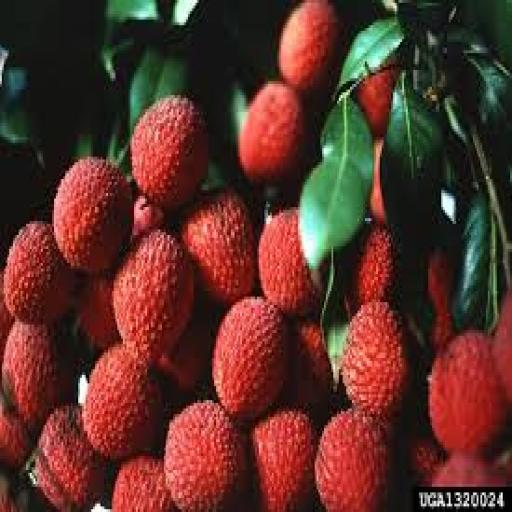lychee: (114, 230, 193, 360), (429, 331, 506, 453), (53, 157, 132, 274), (213, 297, 288, 419), (164, 401, 247, 511), (82, 345, 161, 458), (131, 96, 208, 209), (181, 191, 256, 304), (2, 322, 74, 430), (341, 303, 409, 416), (315, 409, 390, 511), (36, 406, 106, 511), (4, 222, 74, 324), (239, 82, 307, 181), (252, 409, 316, 511), (259, 210, 318, 316), (280, 0, 340, 92), (157, 308, 219, 391), (287, 319, 333, 411), (352, 224, 396, 307), (112, 457, 175, 511), (79, 275, 121, 349), (356, 65, 398, 137), (429, 250, 454, 352), (432, 454, 508, 486), (0, 395, 31, 470), (494, 291, 511, 402), (410, 434, 444, 486), (133, 196, 163, 240), (371, 138, 385, 223), (0, 272, 13, 363)
